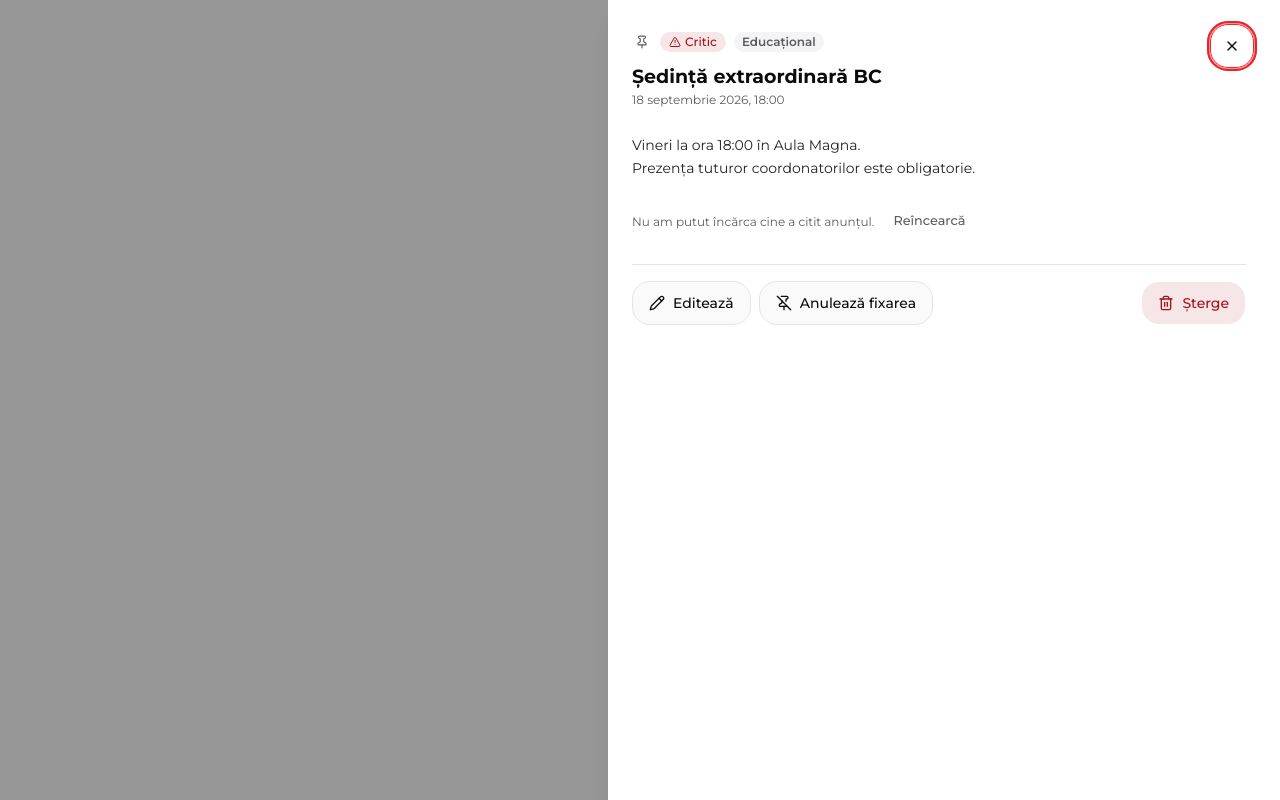
Test: AnnouncementDetailsSheet › pin and unpin (#857) › shows the refusal when the server updates no row
Click the button "Anulează fixarea". click: (846, 303)
box: [759,281,933,325]
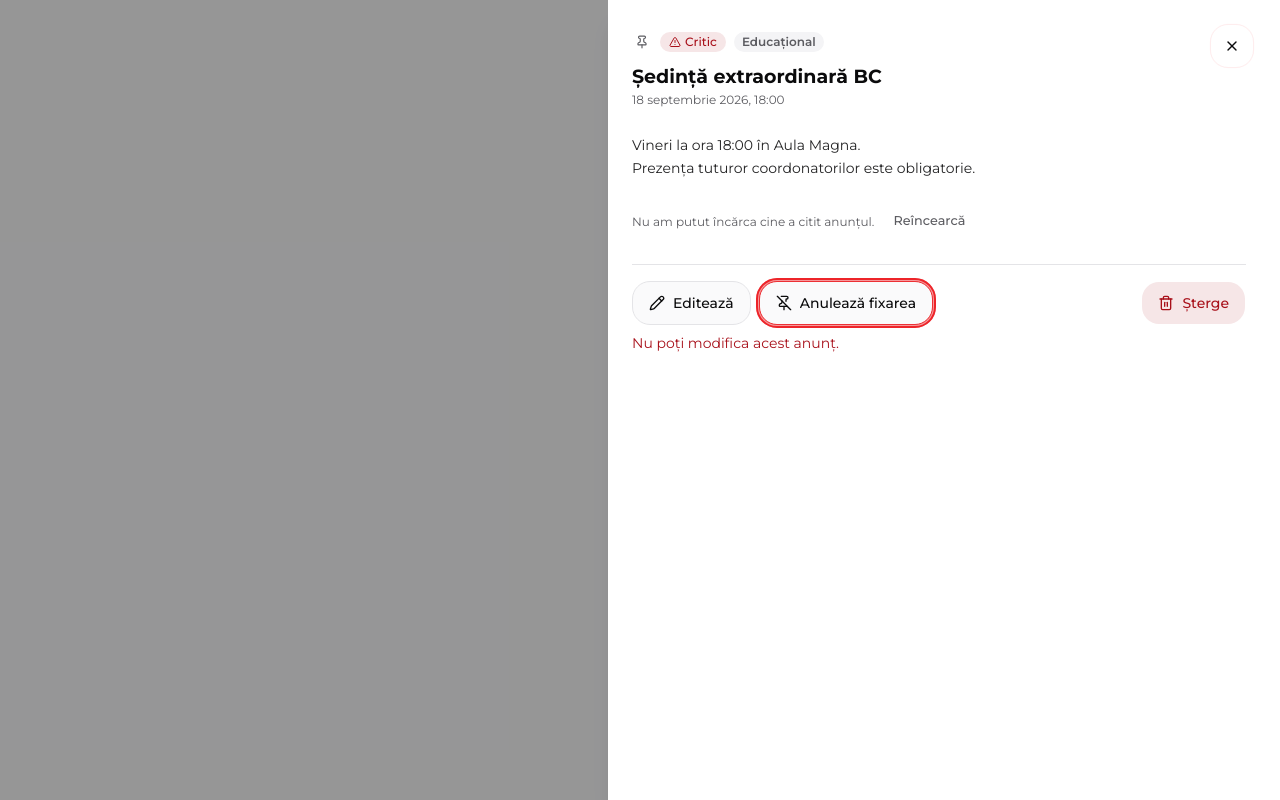
Expected: the message reads "Nu poți modifica acest anunț.", [632,334,839,352]
